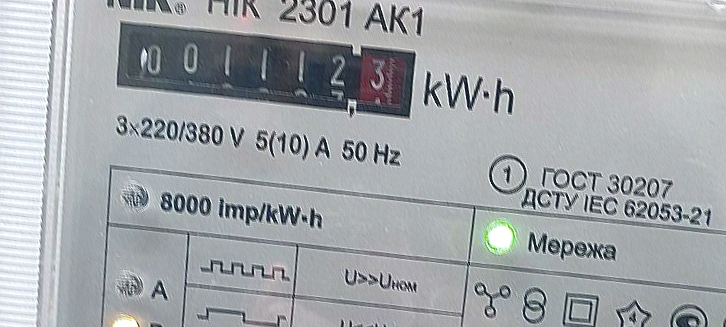0: (174, 39, 201, 79), (138, 41, 165, 78)
1: (213, 41, 236, 81), (251, 45, 270, 85), (289, 48, 308, 87)
2: (322, 53, 349, 91)
3: (363, 57, 385, 94)
screen: (102, 10, 423, 132)
